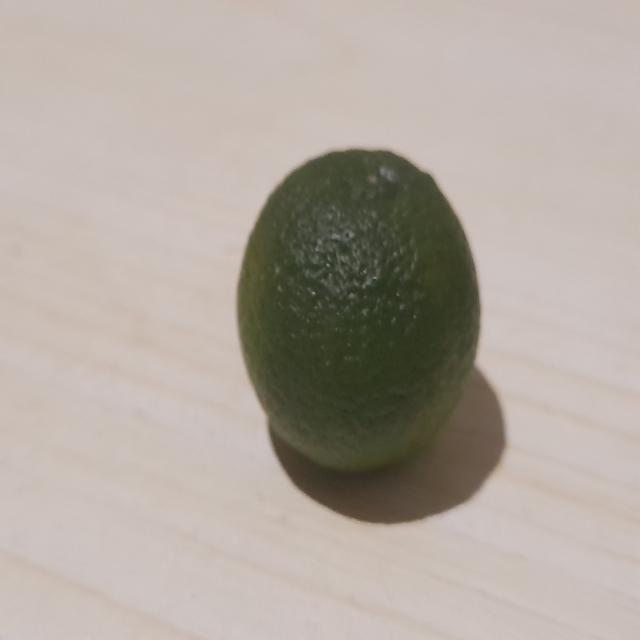heathy: (230, 135, 484, 486)
